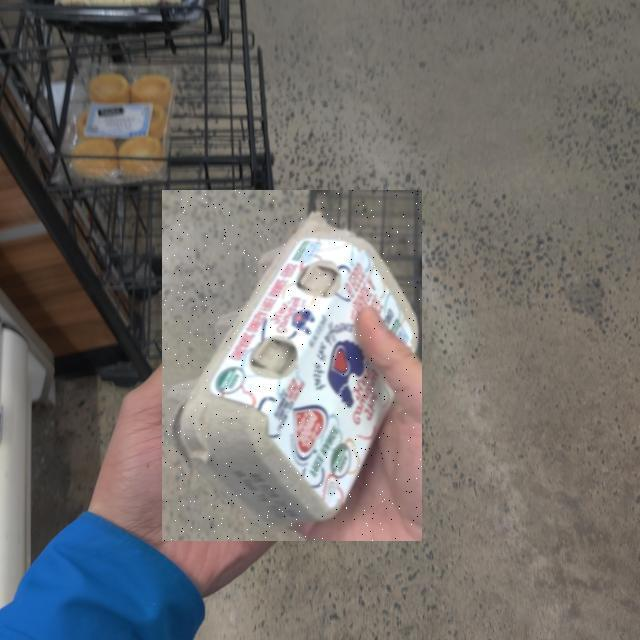Eggs: (163, 190, 423, 541)
